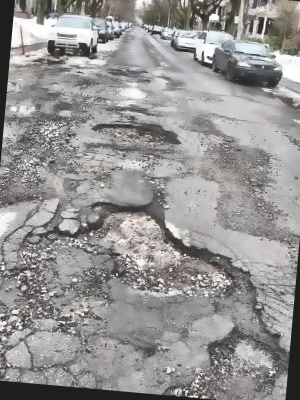pothole: (67, 192, 247, 300), (203, 327, 284, 385), (89, 119, 179, 151)
